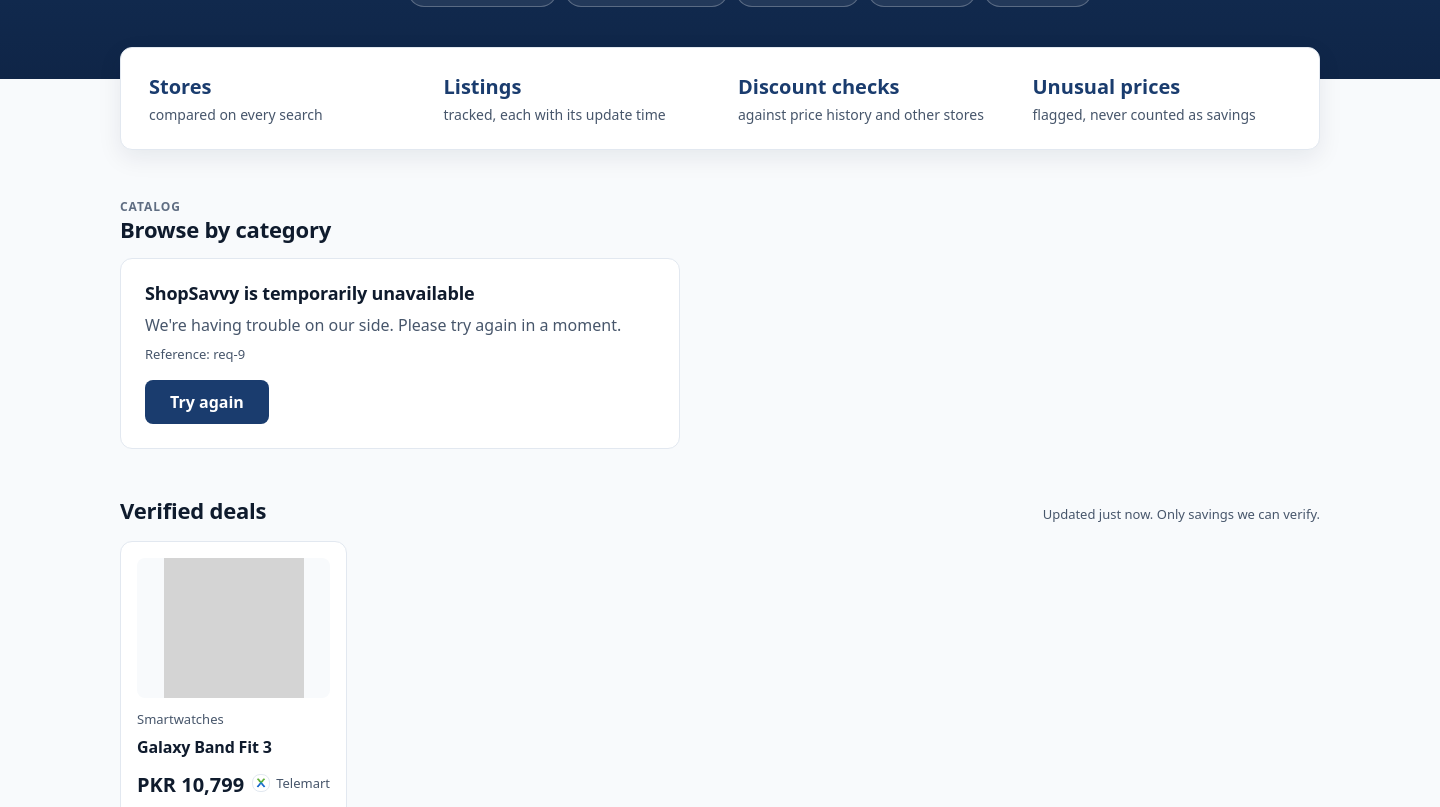
Scenario: Home › says plainly when the server is unavailable, with a way to retry, and keeps the rest of the page
(page scrolled)
Check: the message shows "temporarily unavailable", box top-left (145, 281), bottom-right (474, 305)
Check: the message shows "Reference: req-9", box top-left (145, 345), bottom-right (245, 363)
Click the button "Try again" at (207, 402), box top-left (145, 380), bottom-right (269, 424)
(page scrolled)
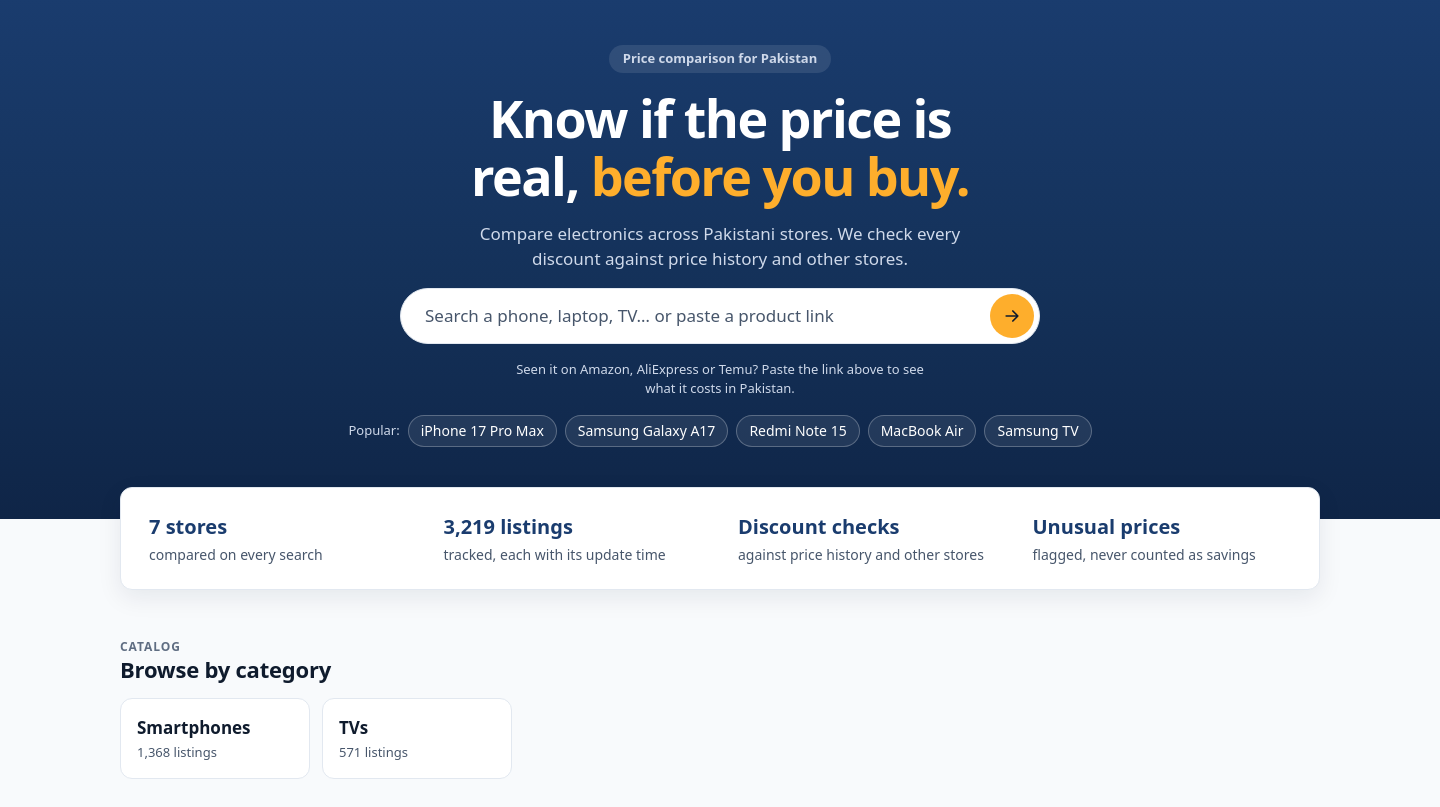
Check: the heading "Know if the price is real, before you buy." is shown, box top-left (452, 88), bottom-right (988, 205)
Check: the link "Smartphones 1,368 listings" is shown, box top-left (120, 698), bottom-right (310, 779)
